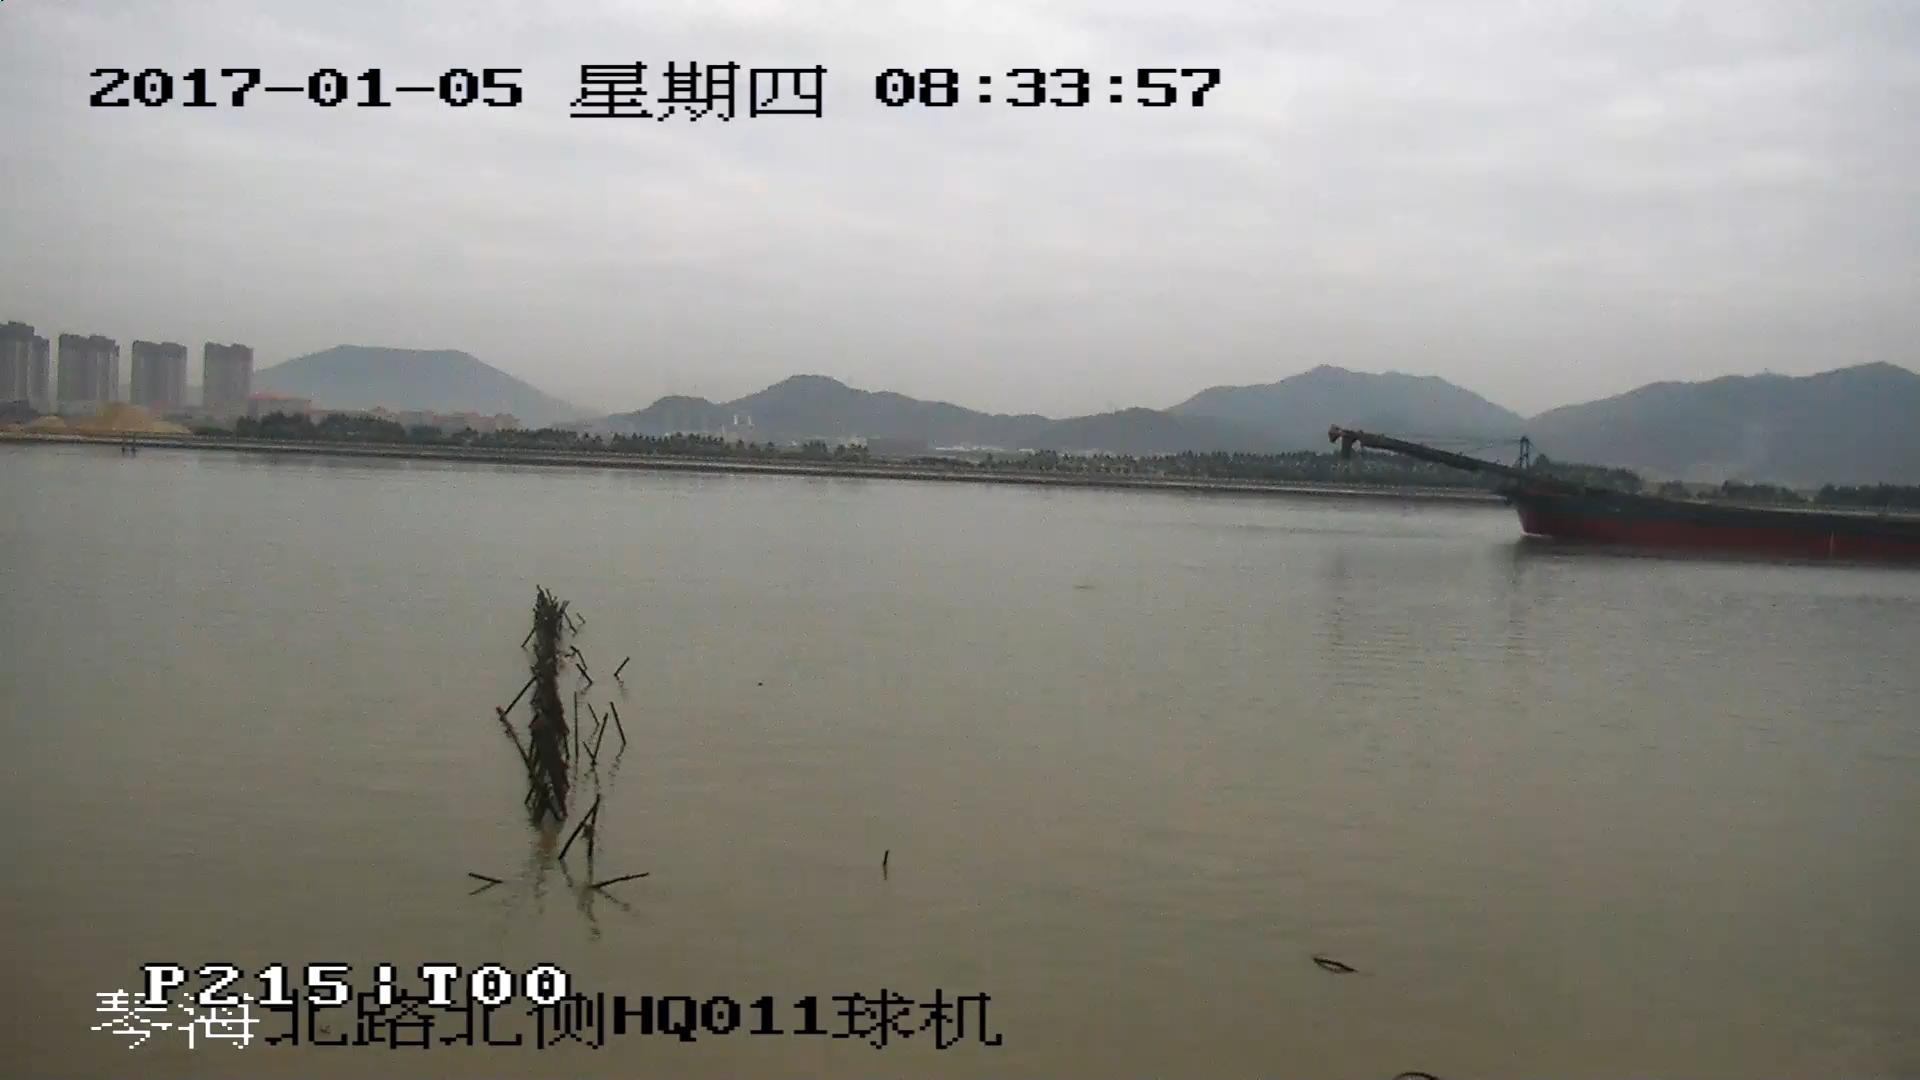bulk cargo carrier: (1334, 424, 1920, 557)
